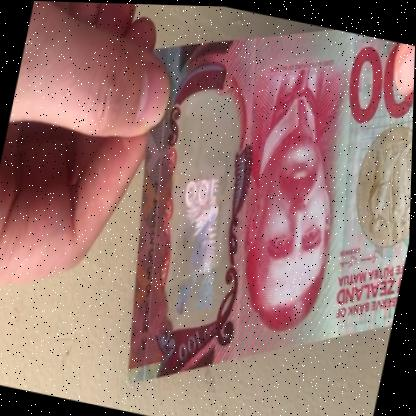100F: (147, 95, 254, 323)
